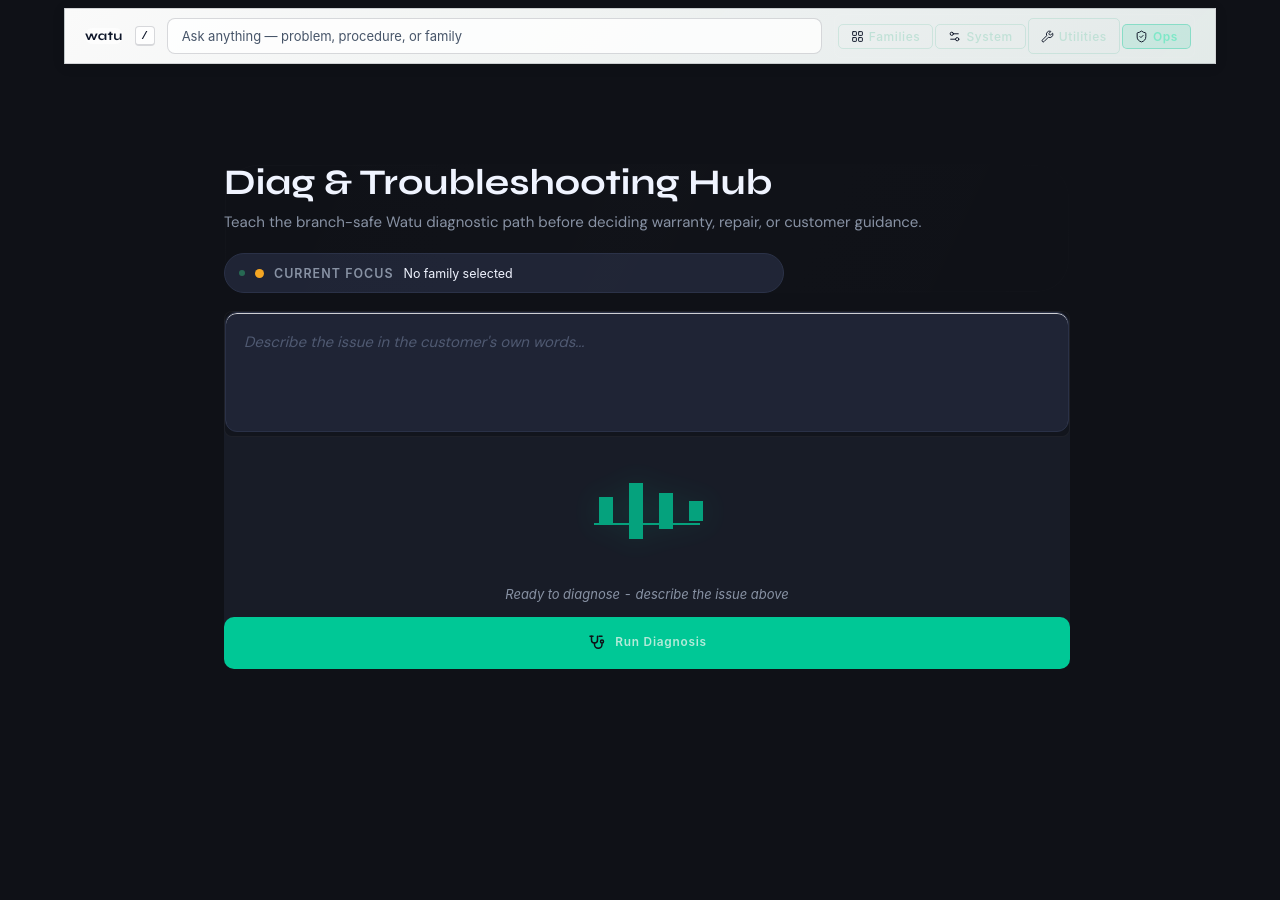
Scenario: HomePage › falls back instead of leaving visual families in an infinite skeleton state
This screenshot has width=1280, height=900.
Click the button "Families".
click(886, 36)  # box [838,24,934,48]
Wait 4600 ms
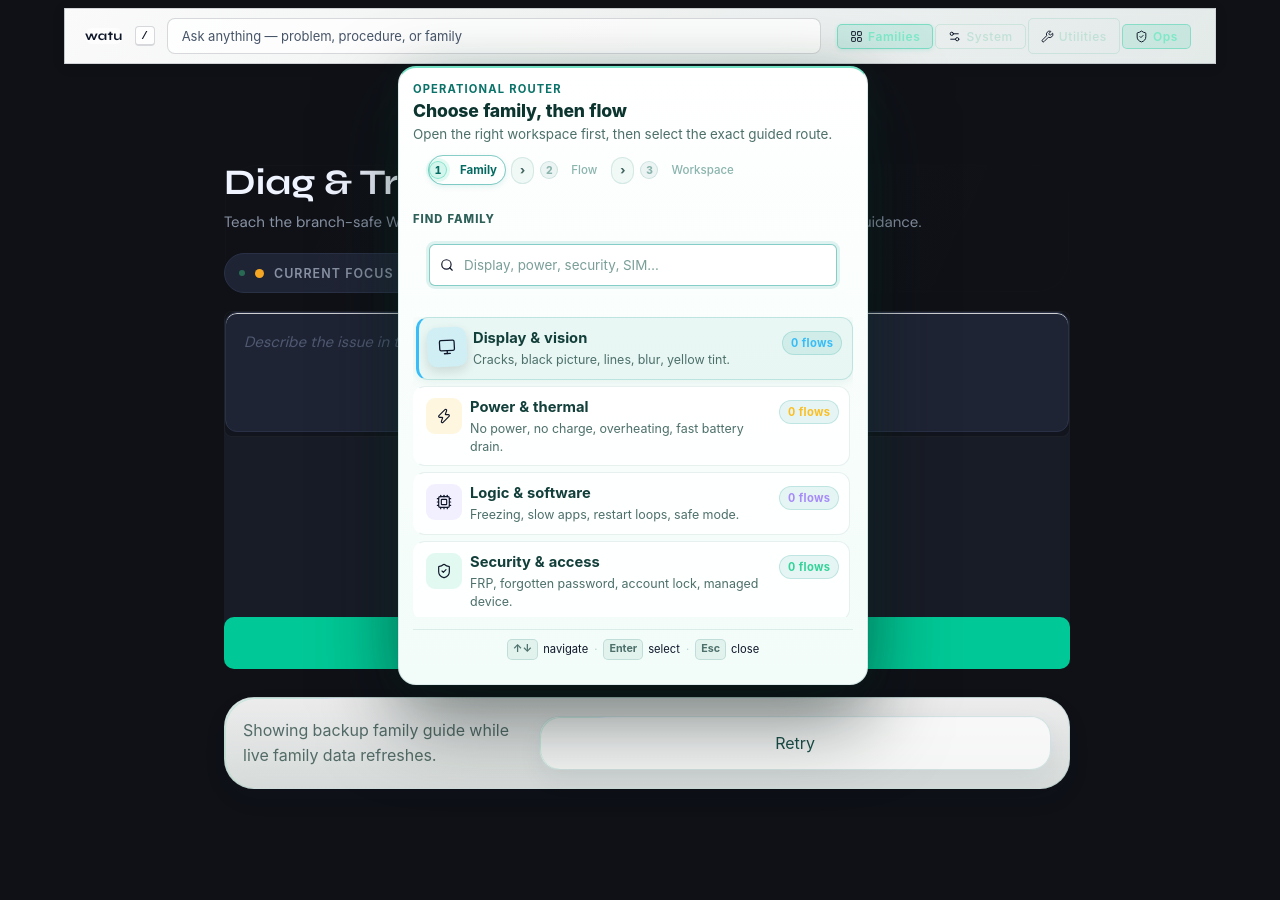
Expected: the button with aria-label "open display & vision diagnosis family" is shown, [416,317,853,380]
Expected: the text "Showing backup family guide" is shown, [243,720,509,765]
Expected: the button "Retry" is shown, [539,716,1051,770]
